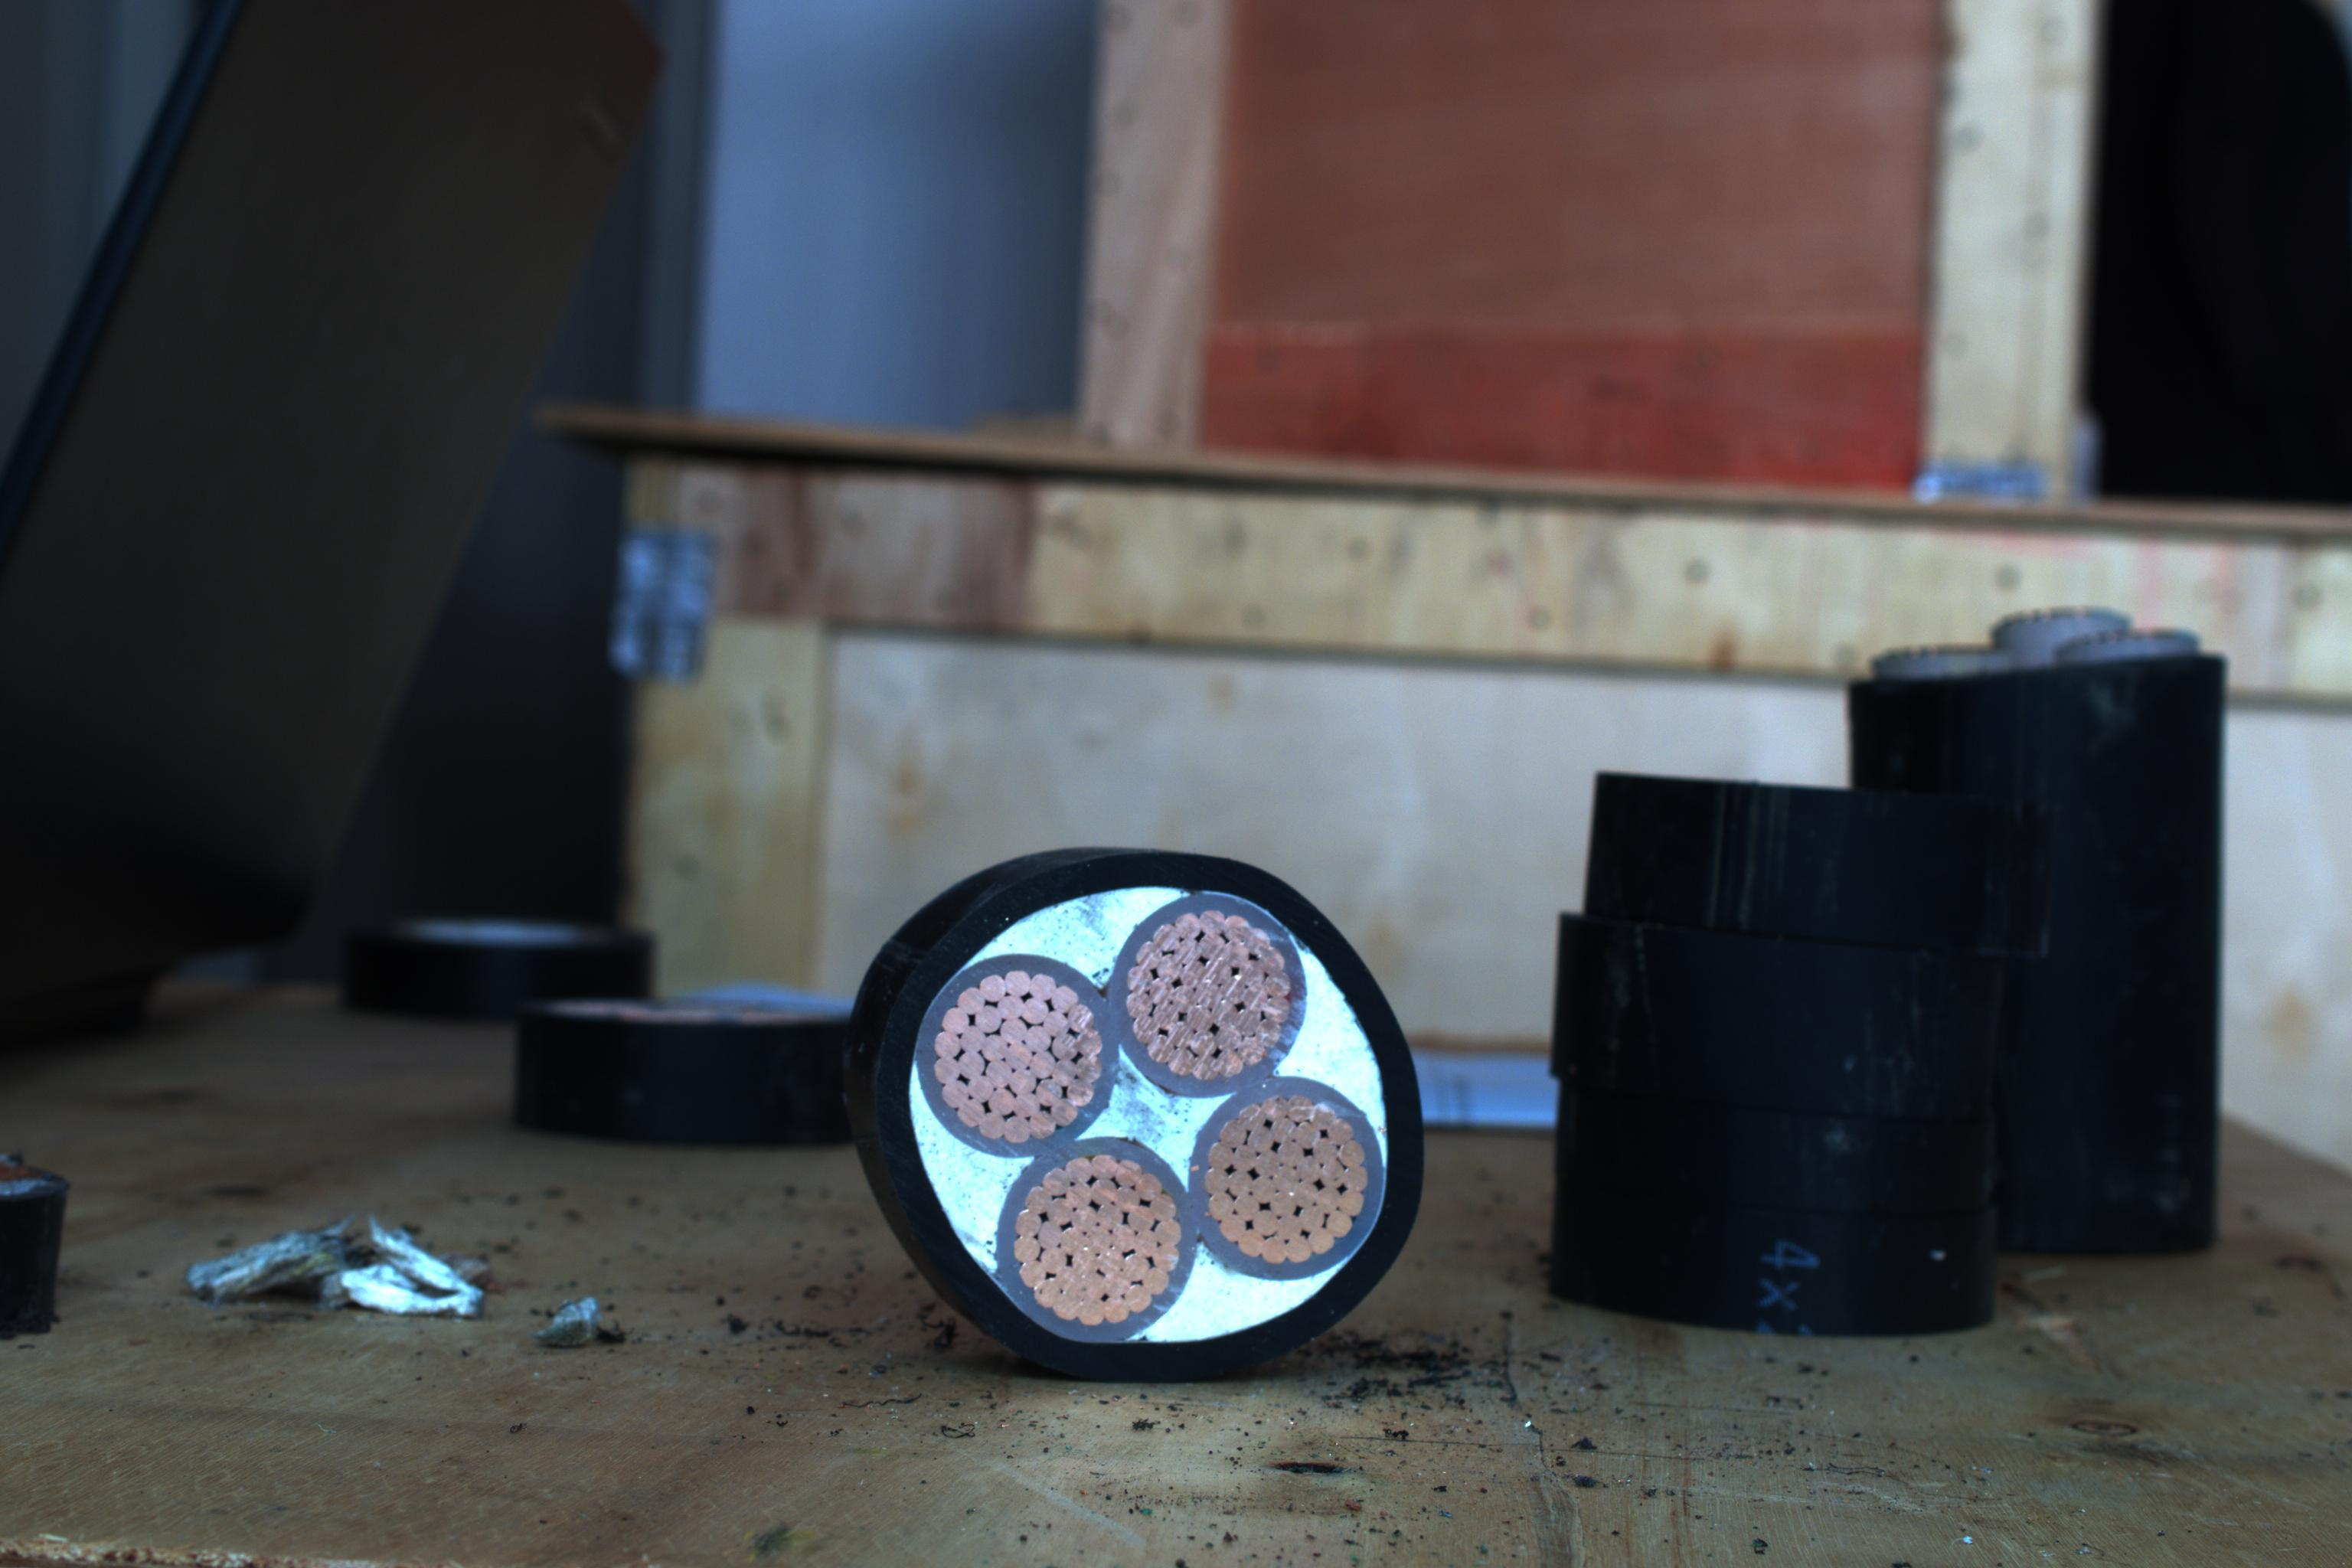YJV_0.6_1kV_4x240: (885, 870, 1438, 1342)
